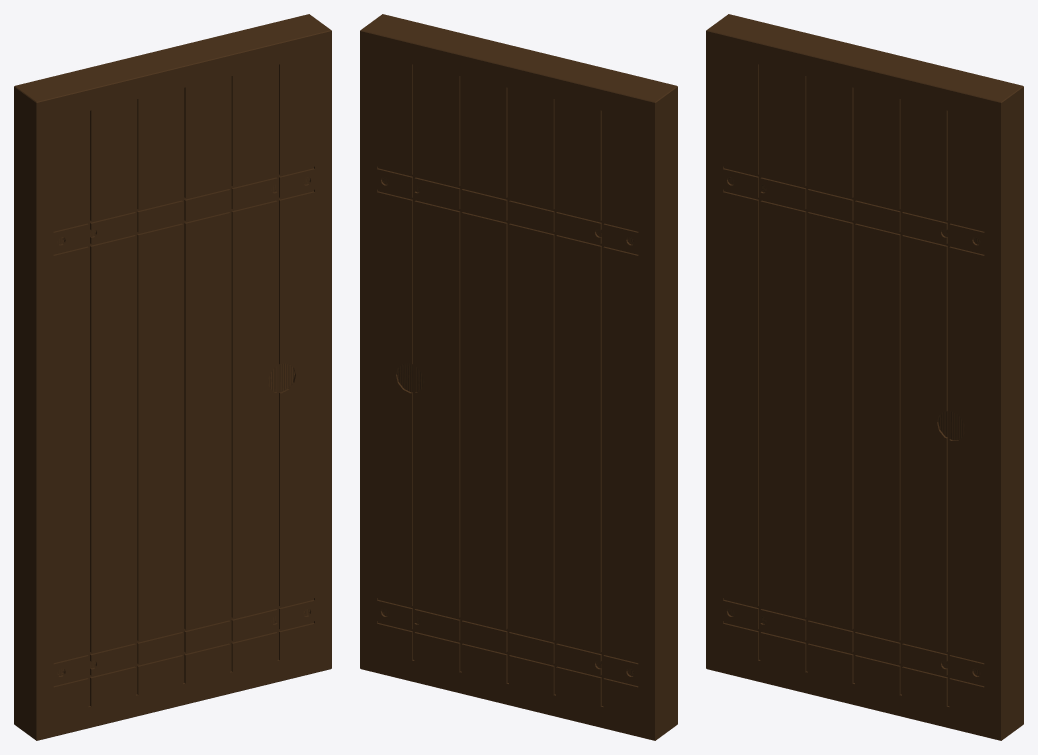
File: door.glb
3 views of the same model, side by side, from view 1: azimuth 30°, elevation 25°; view 2: azimuth 150°, elevation 25°; view 3: azimuth 330°, elevation 25° (orthographic).
Parts seen in each view (by area): view 1: door.002; view 2: door.002; view 3: door.002.
Part boxes in pixels (bbox=[...]): door.002: bbox=[14, 14, 331, 740]; door.002: bbox=[360, 14, 677, 740]; door.002: bbox=[706, 14, 1023, 740].
Bounding box in the file's own units: 0.94 × 1.94 × 0.125.
Materials: 1 (1 with a texture image).
